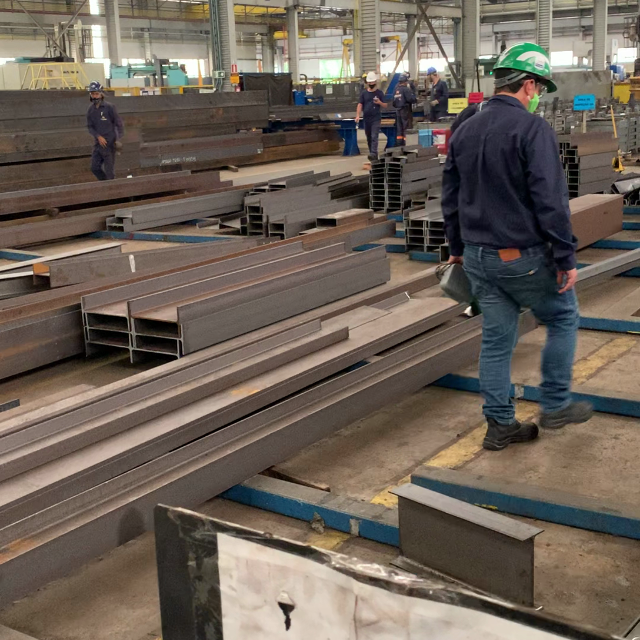helmet: (492, 40, 558, 97)
mask: (529, 93, 539, 110)
person: (441, 40, 592, 450)
safety-shoe: (482, 418, 540, 449), (537, 399, 595, 428)
